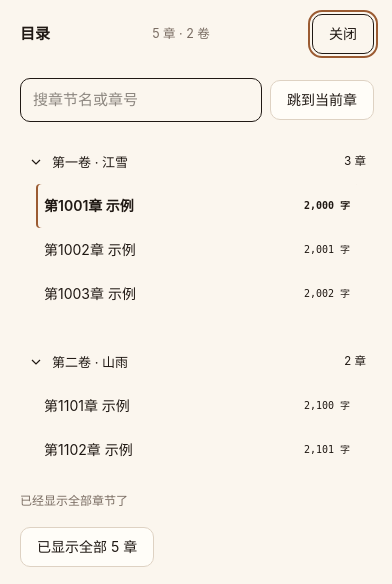
it: 新增控件：目录卷折叠（C-27） › 点卷头收起该卷章节，aria-expanded 同步；空卷置灰并给原因
Click the button "第一卷 · 江雪 3 章". click: point(90, 162)
box: x1=20 y1=140 x2=374 y2=184
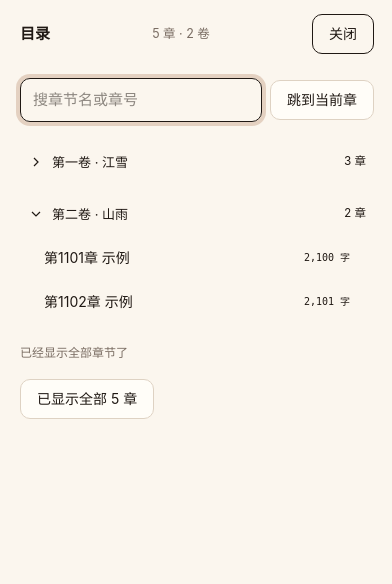
Now the button "第一卷 · 江雪 3 章" is collapsed, box x1=20 y1=140 x2=374 y2=184
